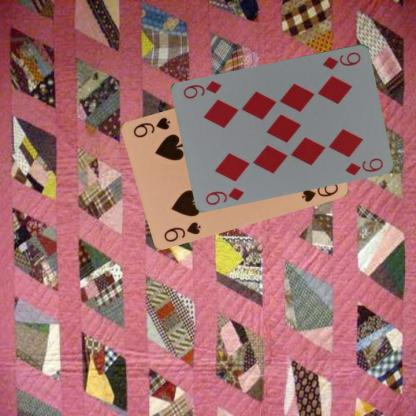9d: (202, 184, 245, 206), (320, 49, 362, 71)
9s: (161, 219, 202, 244)
